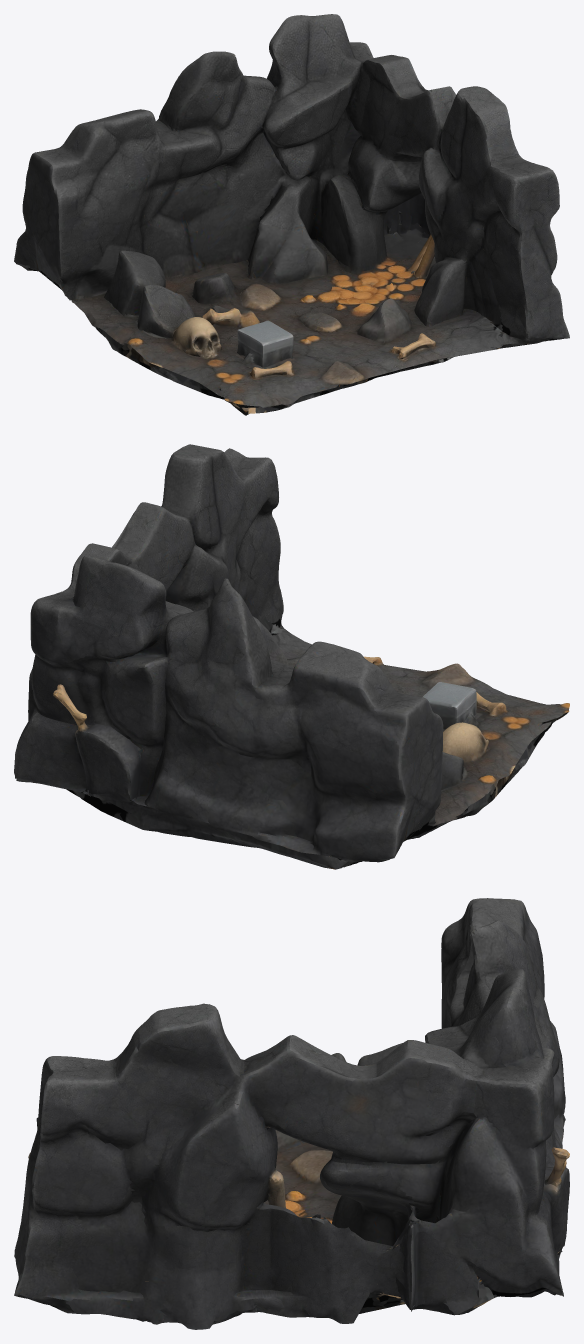
File: dragon-cave.glb
3 renders of one model, top to bottom at view 1: azimuth 30°, elevation 25°; view 2: azimuth 150°, elevation 25°; view 3: azimuth 270°, elevation 25°, orthographic. The views are drawn at different scales.
Visible parts, largest first — view 1: output_unwrapped; view 2: output_unwrapped; view 3: output_unwrapped.
Part boxes in pixels (left/top/right/bottom): output_unwrapped: left=14, top=14, right=569, bottom=415; output_unwrapped: left=14, top=444, right=569, bottom=869; output_unwrapped: left=14, top=898, right=569, bottom=1329.
Size of the model in its own units: 1.89 by 1.11 by 1.89.
Materials: 1 (1 with a texture image).
